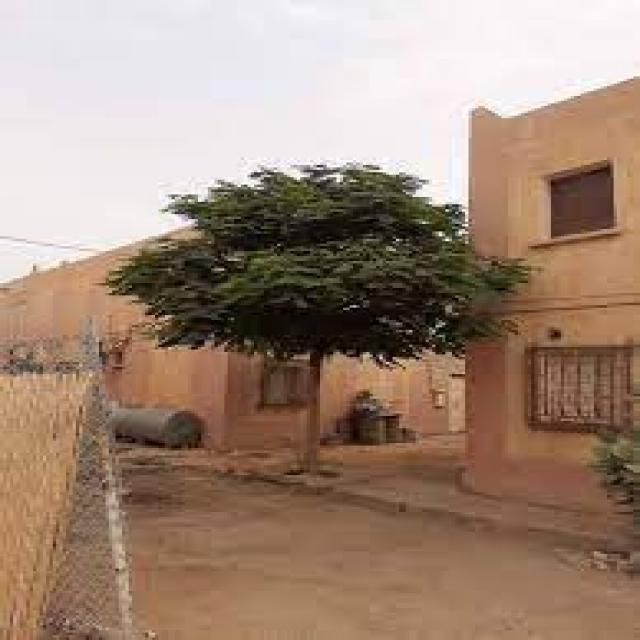Tree: (107, 164, 539, 479), (591, 417, 640, 535)
